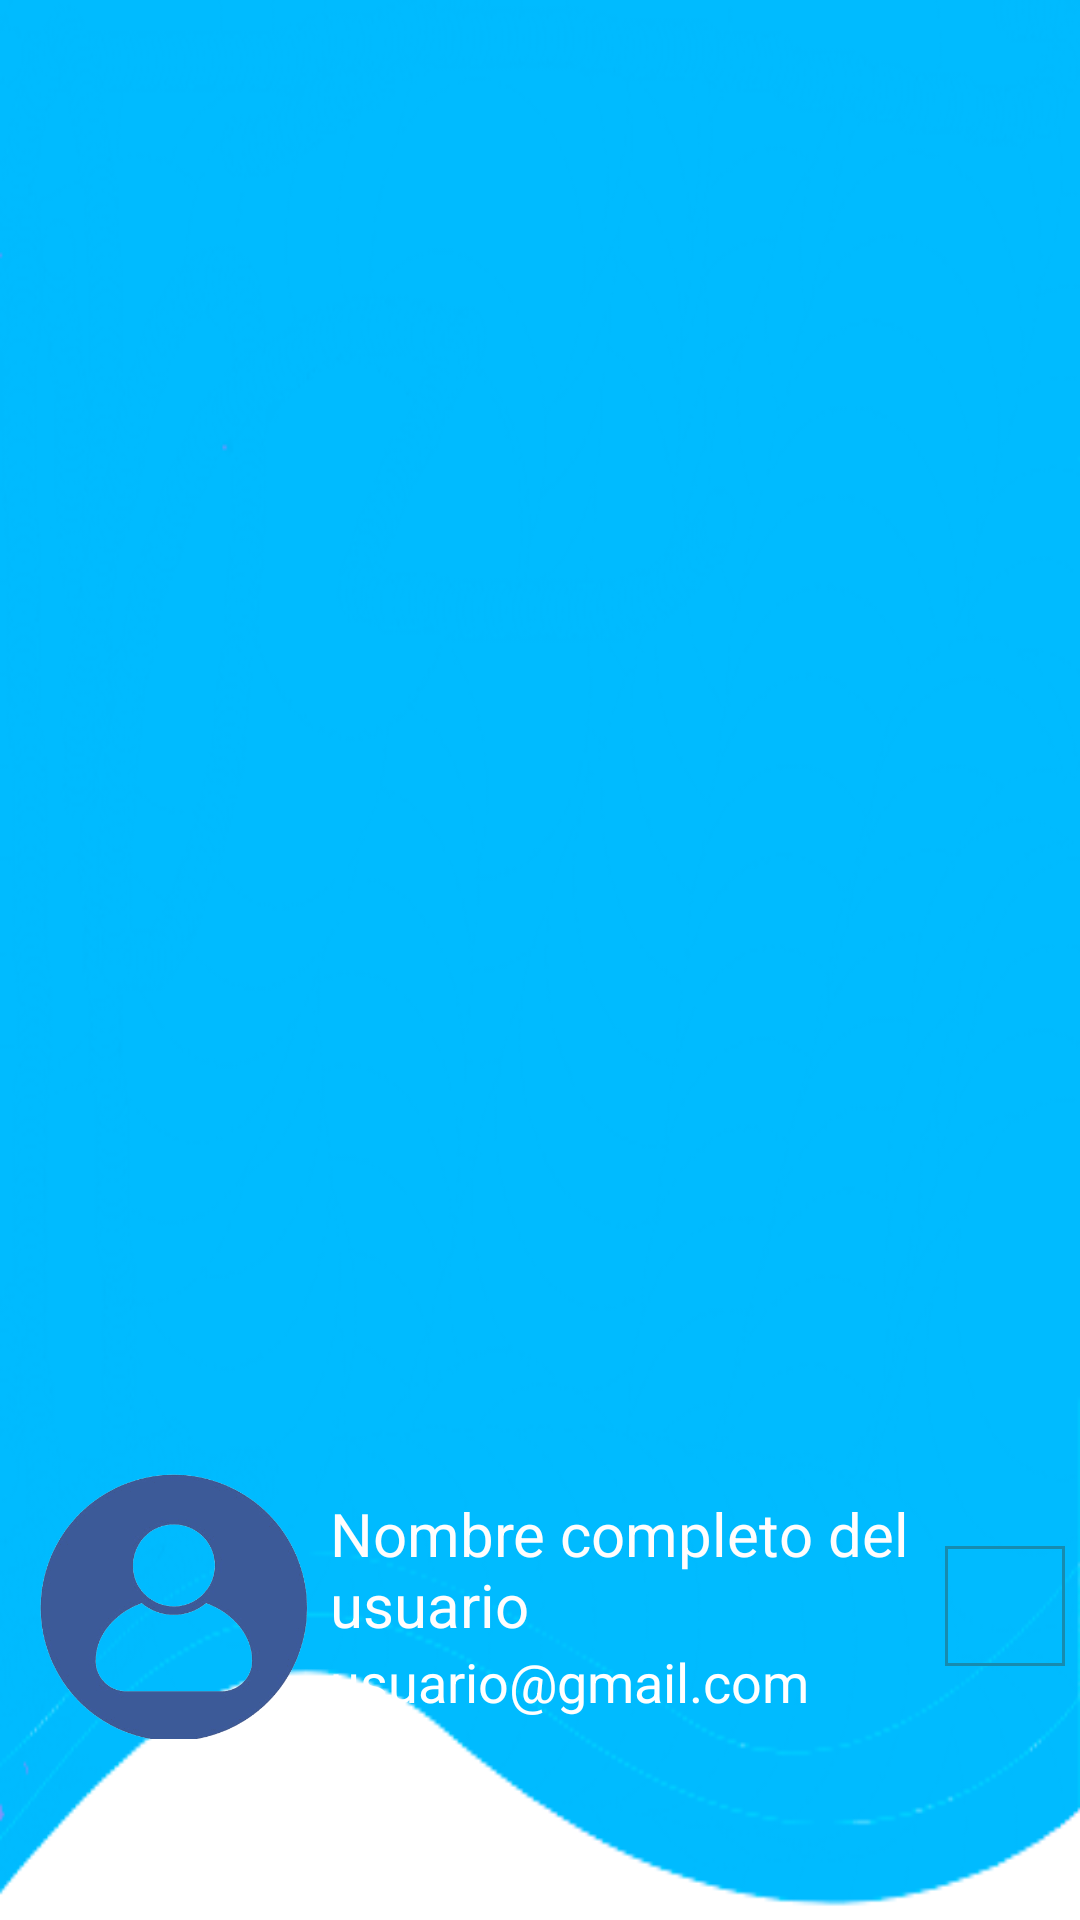

Where icons sit on this 1080w x 1920h app screen, as (x1, y1, x2, y2):
perfil: (30, 1474, 315, 1756)
